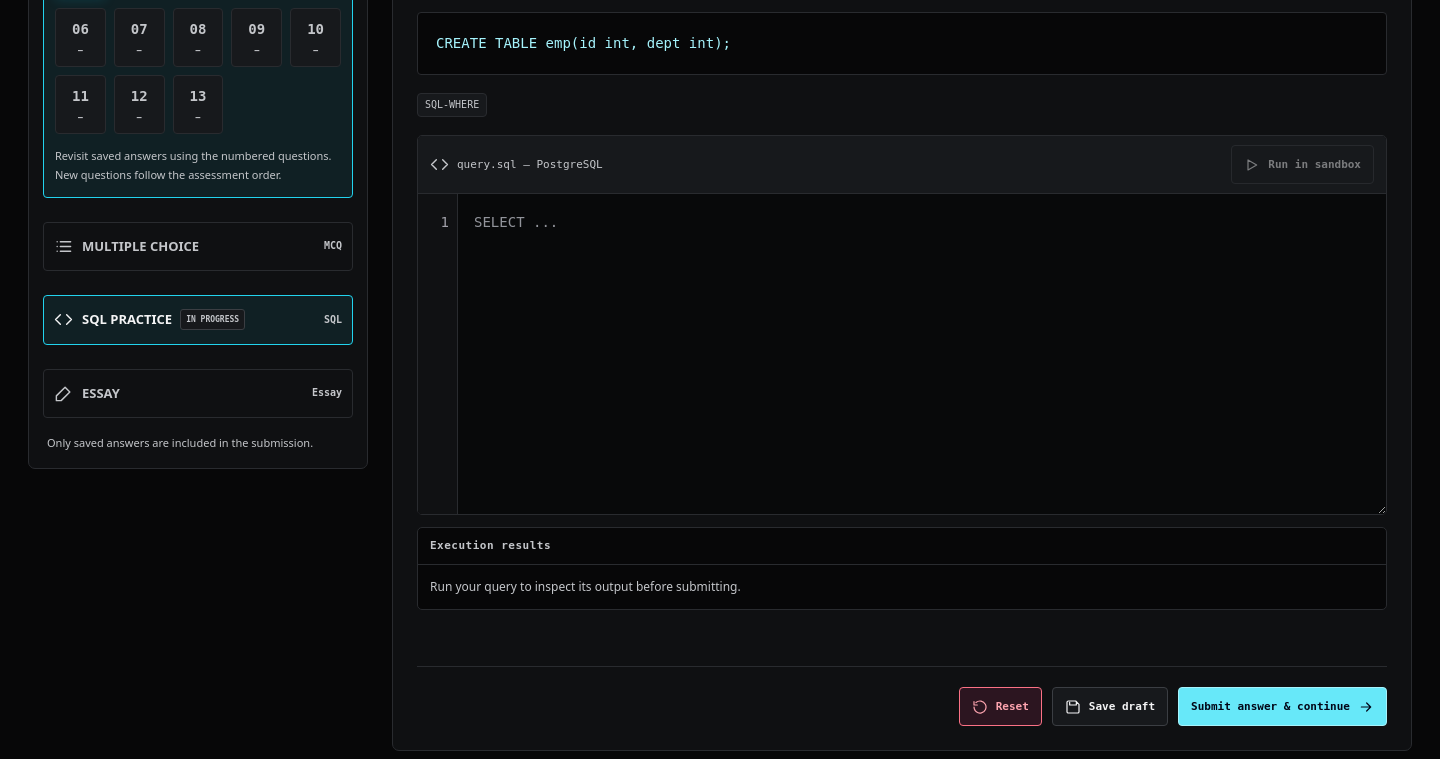
ExamPage › renders a SQL question with a schema viewer and sandbox run
(page scrolled)
Type "SELECT id FROM emp" into the text box with placeholder "SELECT ...".
click(922, 354); type("SELECT id FROM emp")  # box [458,194,1386,514]
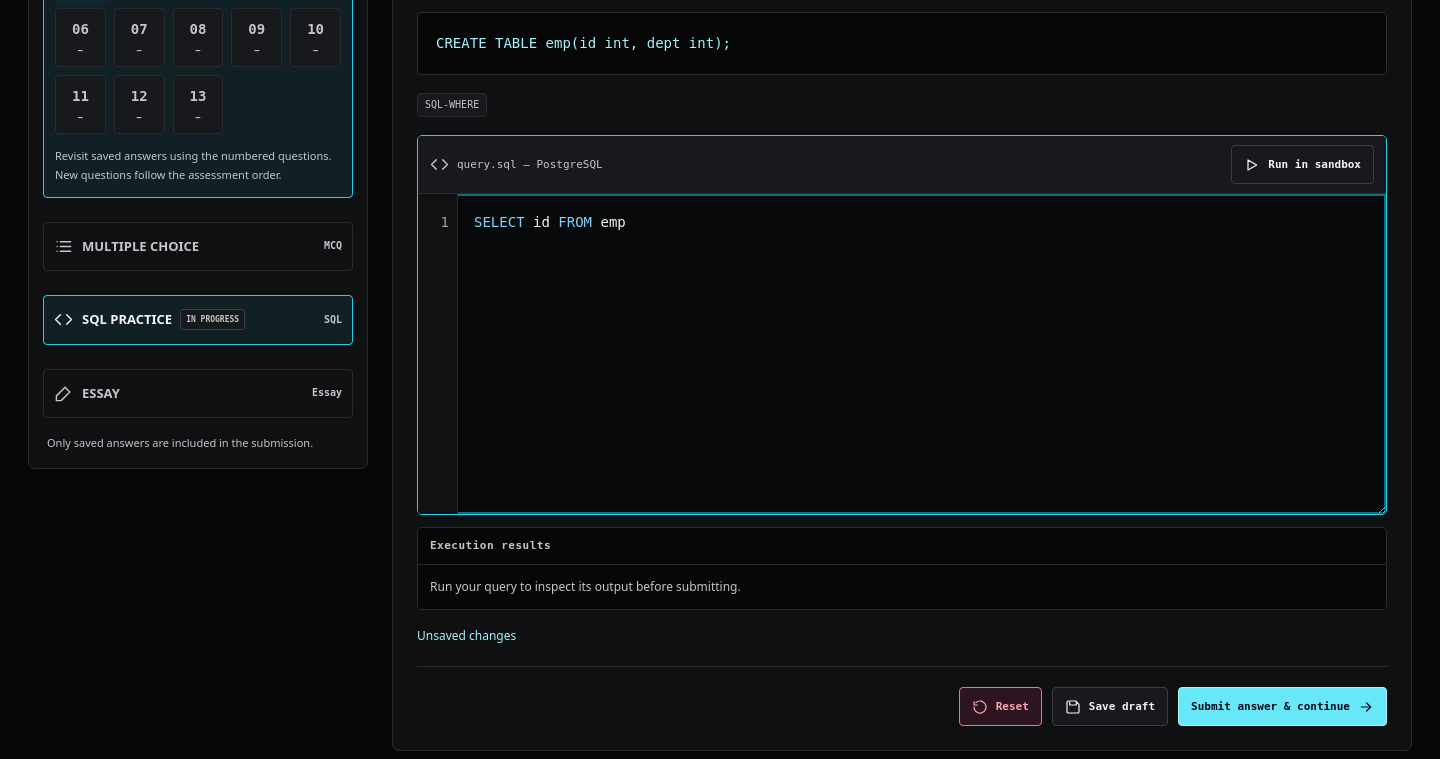
Click the button "Run in sandbox".
click(1303, 165)  # box [1231,145,1374,184]
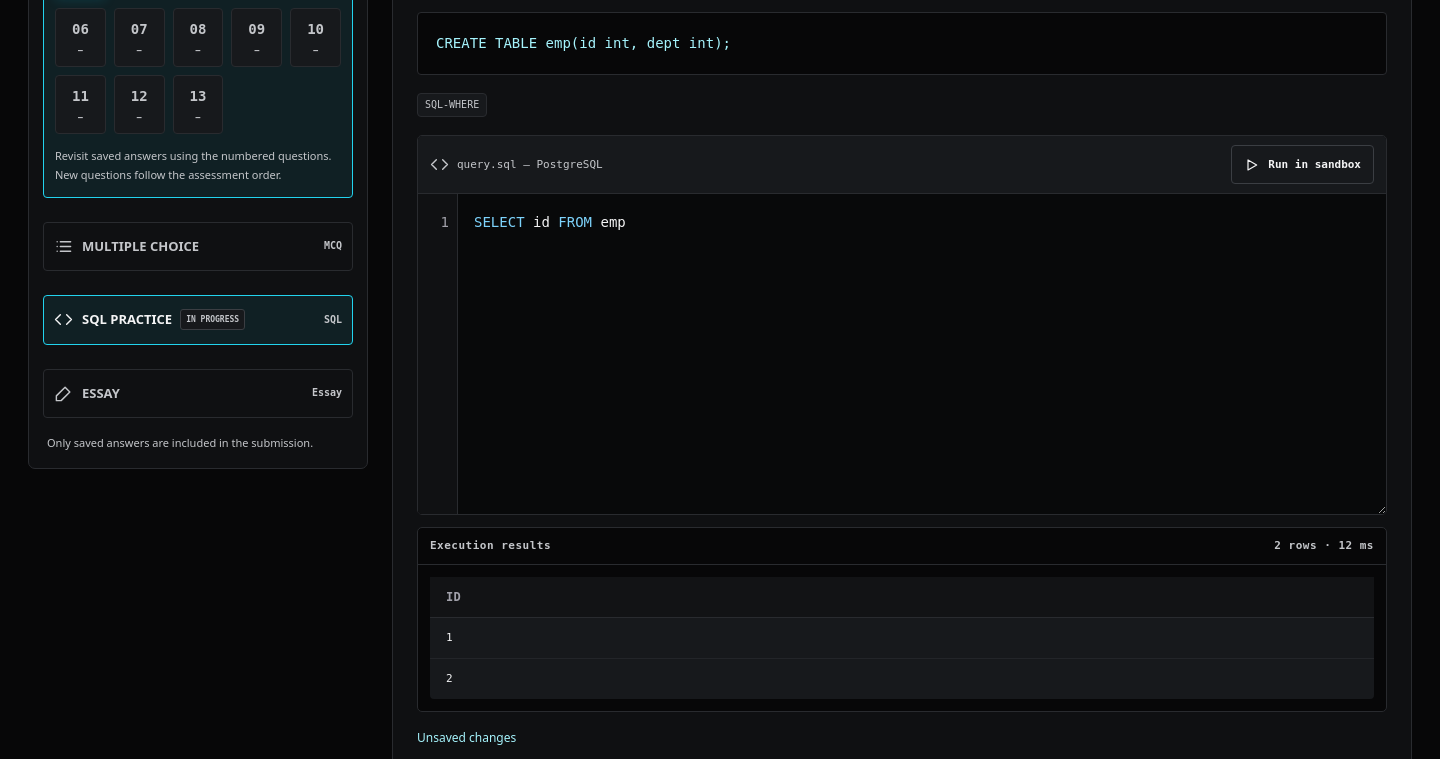
Expected: the text "2 rows · 12 ms" is shown, [1274,537,1374,555]
